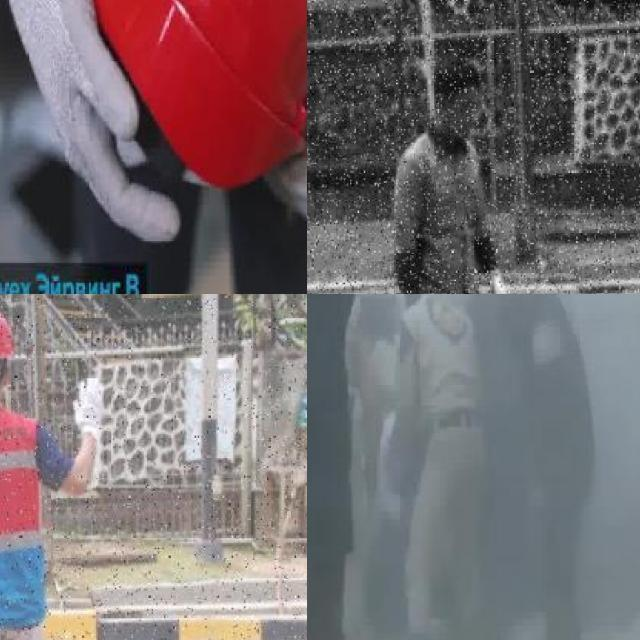apron: (2, 0, 182, 242), (265, 31, 307, 230), (70, 376, 108, 444), (480, 266, 509, 294)
